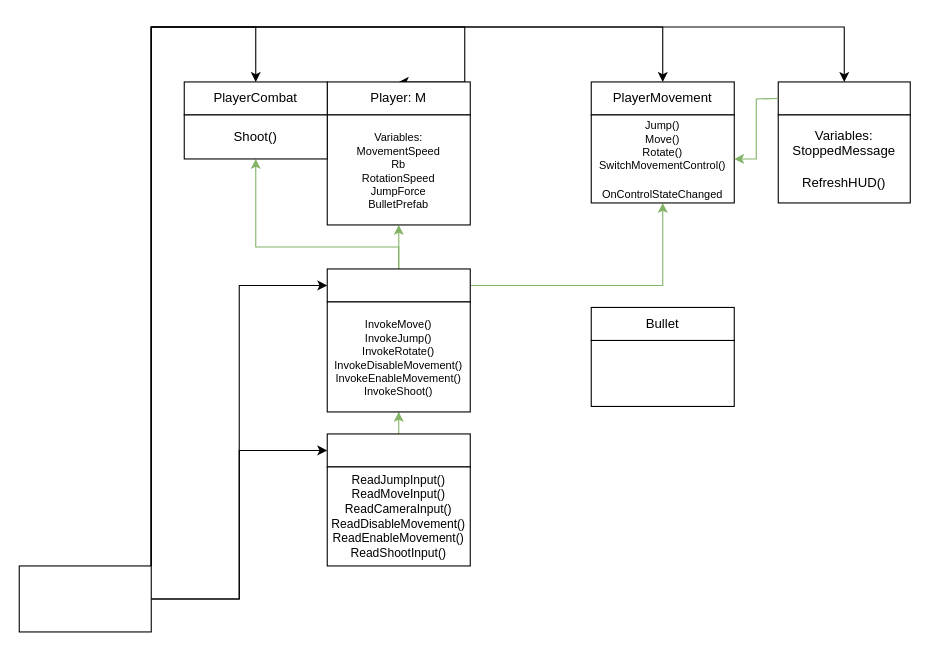
This 930x651 diagram has some shape labels left out. The shapes that lost their labels are listed below. From the top down, each one's centre as x and y in pixels, then its label:
At pixel 843 98: "PlayerHUD: M".
At pixel 398 285: "PlayerInvoker".
At pixel 662 372: "Variables: speed lifetime".
At pixel 398 450: "InputListener".
At pixel 84 598: "Bootstrapper: M".
